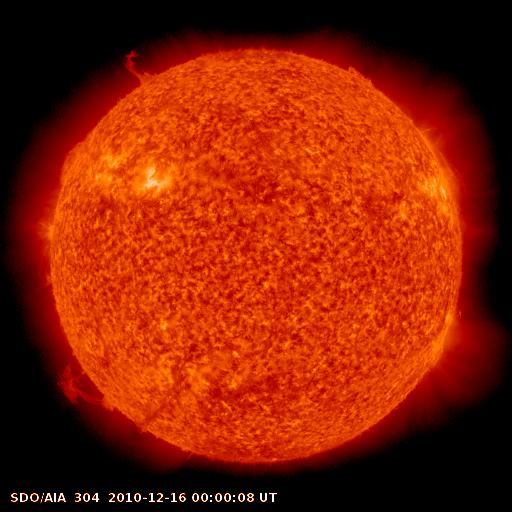prominence: (41, 348, 123, 416), (106, 45, 174, 96), (53, 133, 96, 191), (341, 59, 383, 94)
